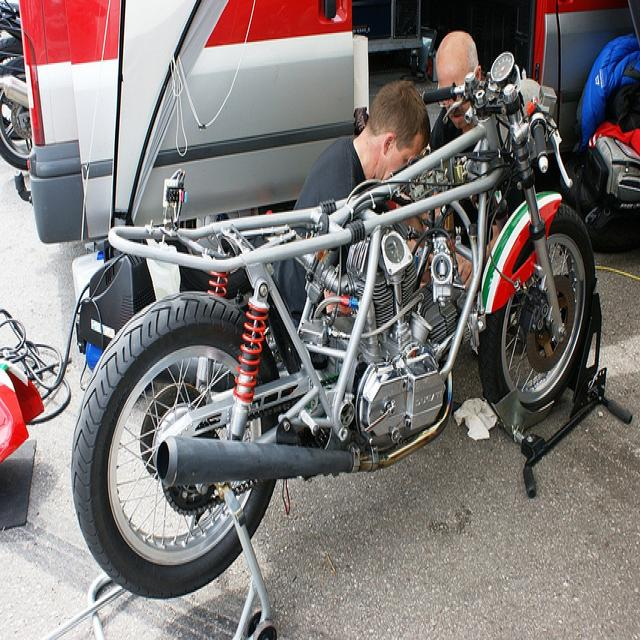motor: (72, 44, 609, 632)
